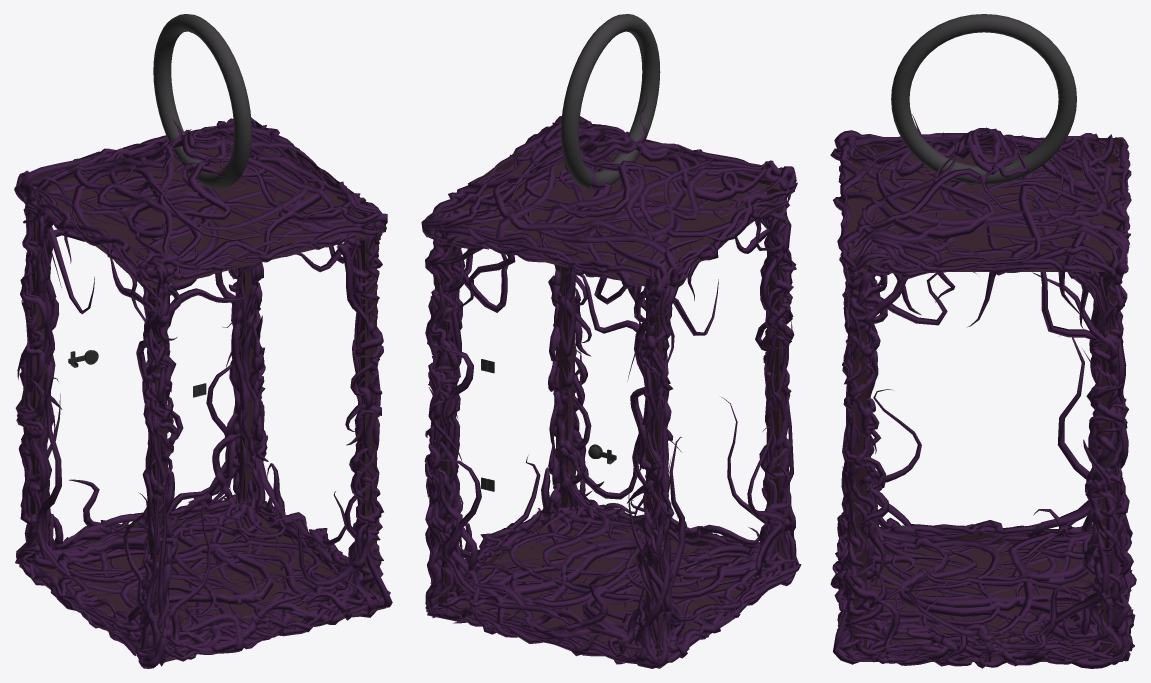
Rendered from LanternModel.fbx.
3 views of the same model, side by side, from view 1: azimuth 30°, elevation 25°; view 2: azimuth 150°, elevation 25°; view 3: azimuth 270°, elevation 25° (orthographic). The views are drawn at different scales.
Visible parts, largest first — view 1: vines, top, handle, floor, beams; view 2: vines, top, handle, floor, beams; view 3: vines, handle, top, floor, beams.
Part boxes in pixels (<box>): vines: <box>14,117,392,668</box>; top: <box>19,120,385,288</box>; handle: <box>153,14,251,188</box>; floor: <box>19,498,385,663</box>; beams: <box>28,186,376,652</box>; vines: <box>421,91,801,668</box>; top: <box>426,119,794,288</box>; handle: <box>561,14,660,189</box>; floor: <box>426,506,774,668</box>; beams: <box>435,133,785,656</box>; vines: <box>830,114,1136,668</box>; handle: <box>891,14,1076,184</box>; top: <box>845,129,1120,271</box>; floor: <box>852,529,1122,661</box>; beams: <box>852,148,1115,650</box>.
Size of the model in its own units: 0.1537 by 0.332 by 0.1533.
